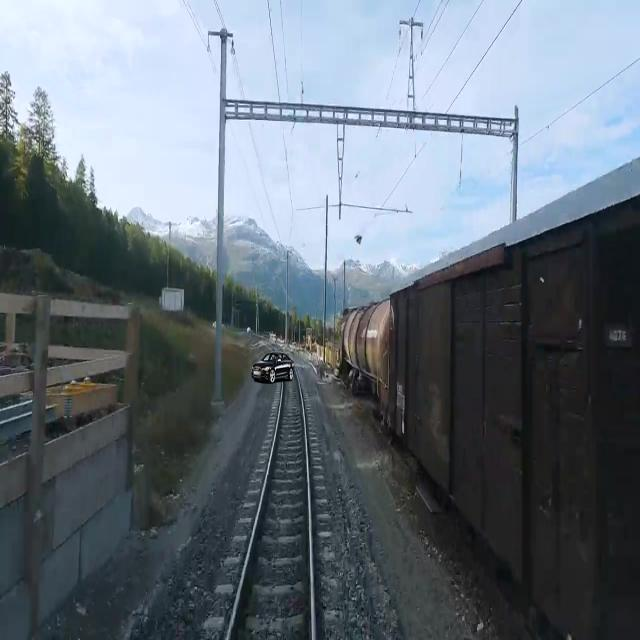boxcar: (385, 145, 640, 640)
tank: (336, 282, 392, 424)
